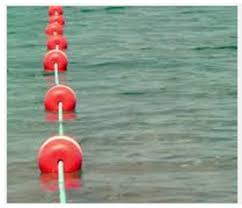buoy: (40, 137, 82, 173), (45, 86, 76, 112), (42, 50, 69, 72), (48, 36, 68, 50), (46, 23, 61, 35), (50, 15, 65, 25), (49, 7, 63, 14)
